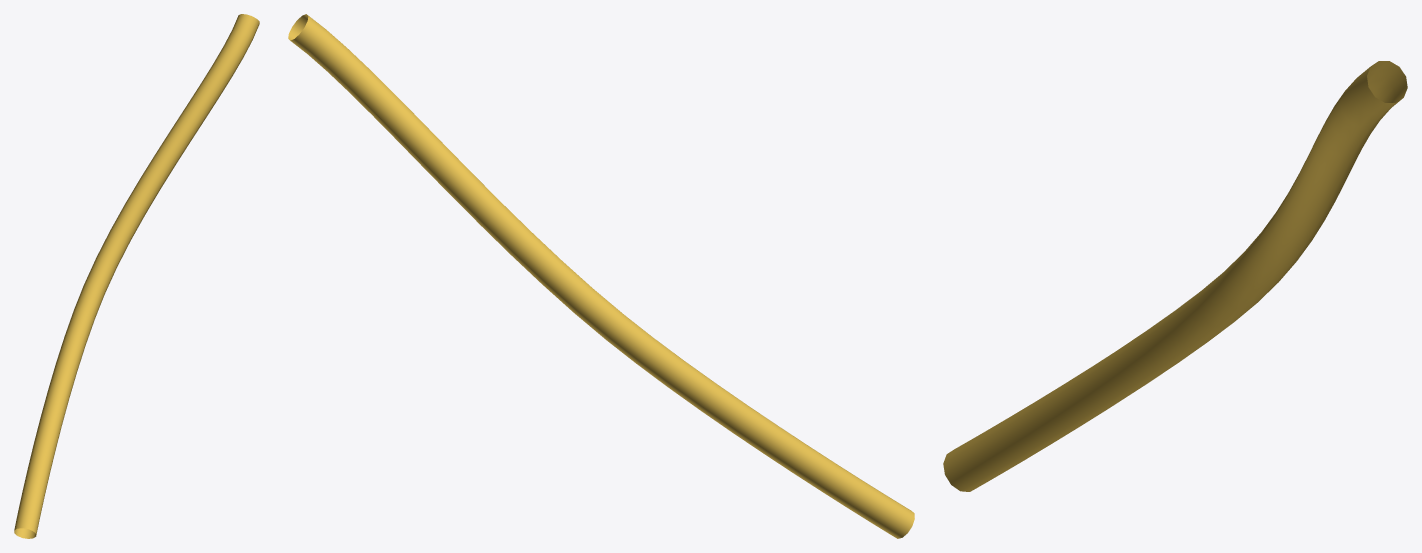
The model's file is Anterior_division_inferior_trunk_brachial_plexus_right.glb.
3 views of the same model, side by side, from view 1: azimuth 30°, elevation 25°; view 2: azimuth 150°, elevation 25°; view 3: azimuth 270°, elevation 25° (orthographic). The views are drawn at different scales.
Visible parts, largest first — view 1: Anterior_division_of_inferior_trunk_of_brachial_plexus.r_Bez; view 2: Anterior_division_of_inferior_trunk_of_brachial_plexus.r_Bez; view 3: Anterior_division_of_inferior_trunk_of_brachial_plexus.r_Bez.
Part boxes in pixels (bbox=[...]): Anterior_division_of_inferior_trunk_of_brachial_plexus.r_Bez: bbox=[14, 14, 259, 538]; Anterior_division_of_inferior_trunk_of_brachial_plexus.r_Bez: bbox=[288, 14, 914, 538]; Anterior_division_of_inferior_trunk_of_brachial_plexus.r_Bez: bbox=[943, 61, 1407, 491].
Size of the model in its own units: 0.0174 by 0.0179 by 0.0101.
